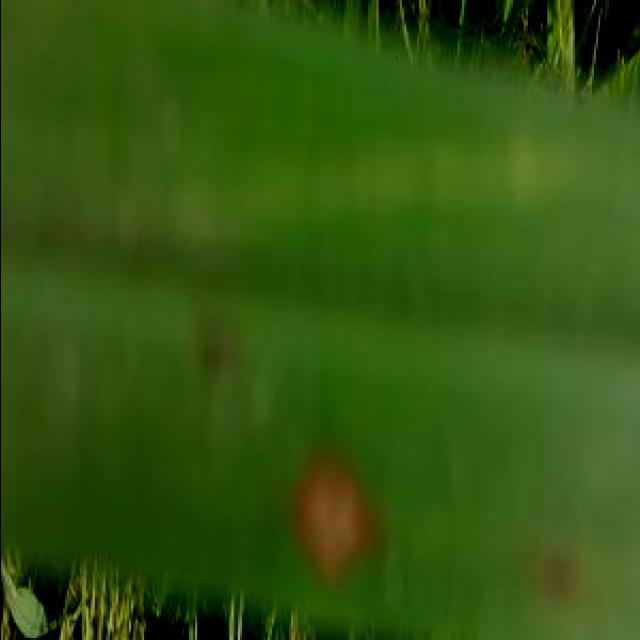Brown_Spot: (273, 461, 403, 579)
